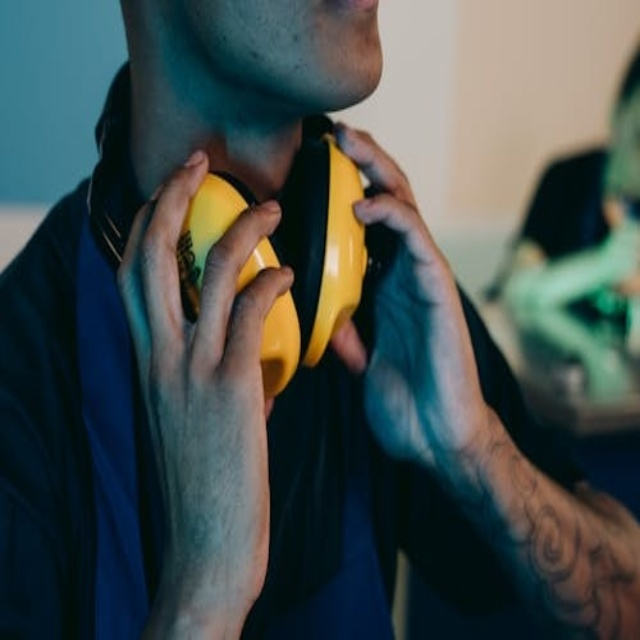Sin_guantes: (118, 144, 297, 588), (342, 130, 501, 476)
Sin_mascara: (323, 2, 394, 100)
